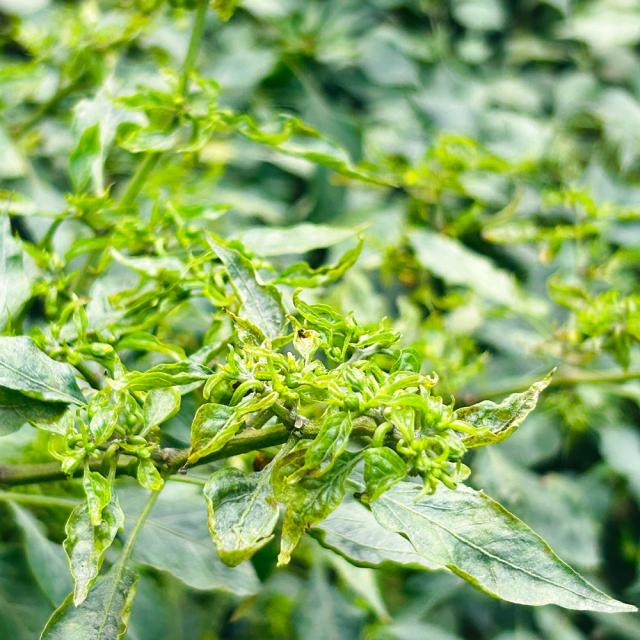Chilli_Leaf_Curl: (1, 1, 638, 637), (182, 230, 558, 570), (306, 471, 637, 614), (202, 228, 288, 348)
